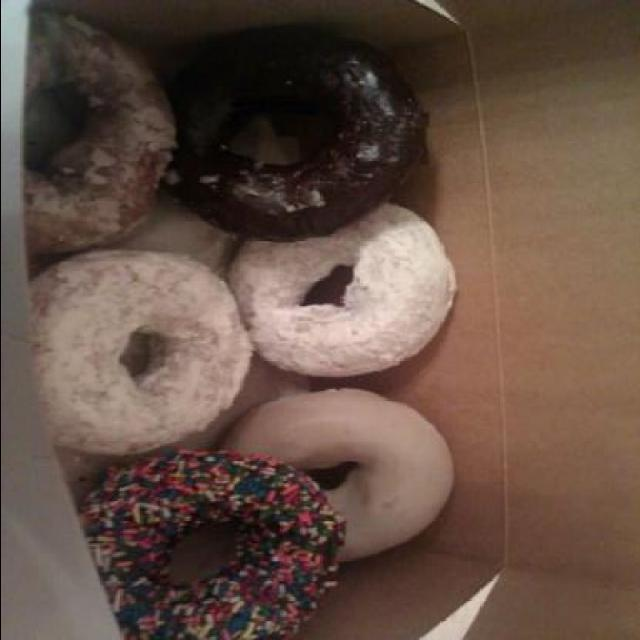Donuts: (32, 1, 460, 639)
